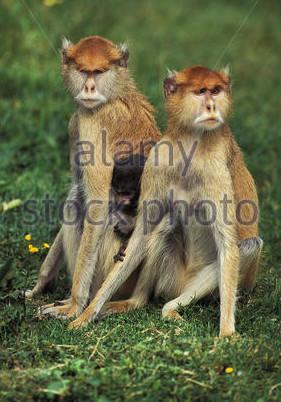monkey: (26, 36, 264, 339)
